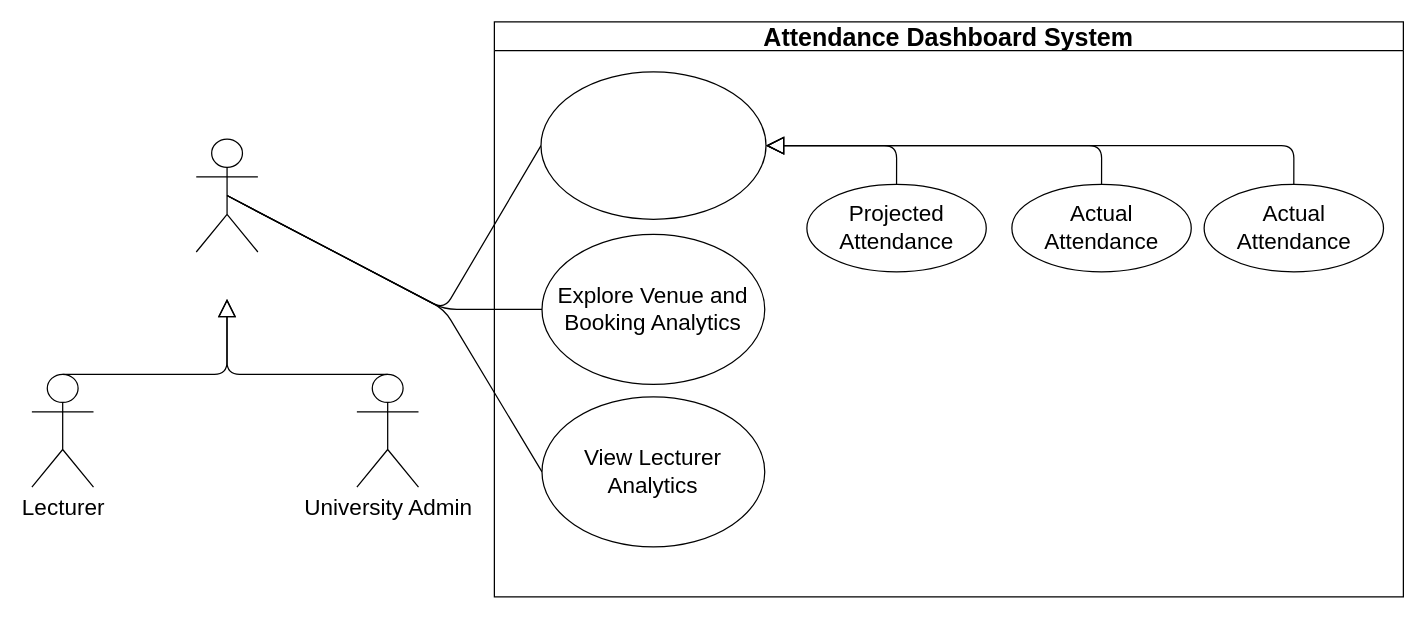
Some shapes in this 1426 by 619 pixel diagram are drawn without their labels. Each missing label, with the centre of its shape:
User: the point at 226,195
View Attendance Analytics Dashboard: the point at 653,145
